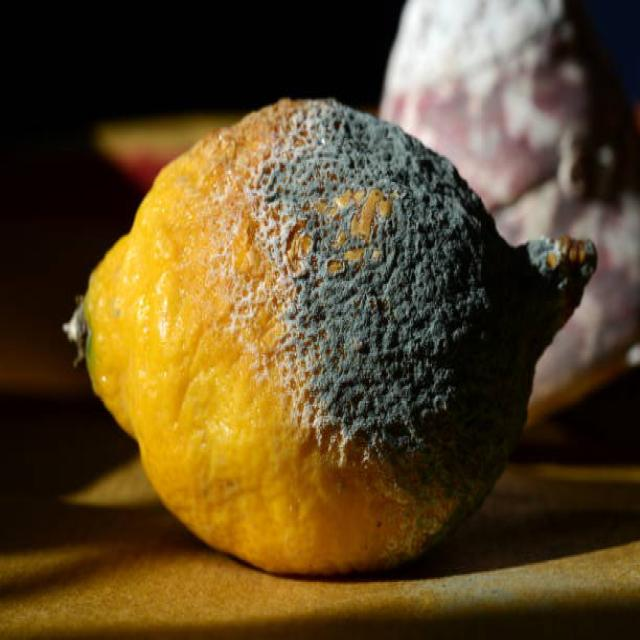Rotten: (61, 95, 597, 578)
